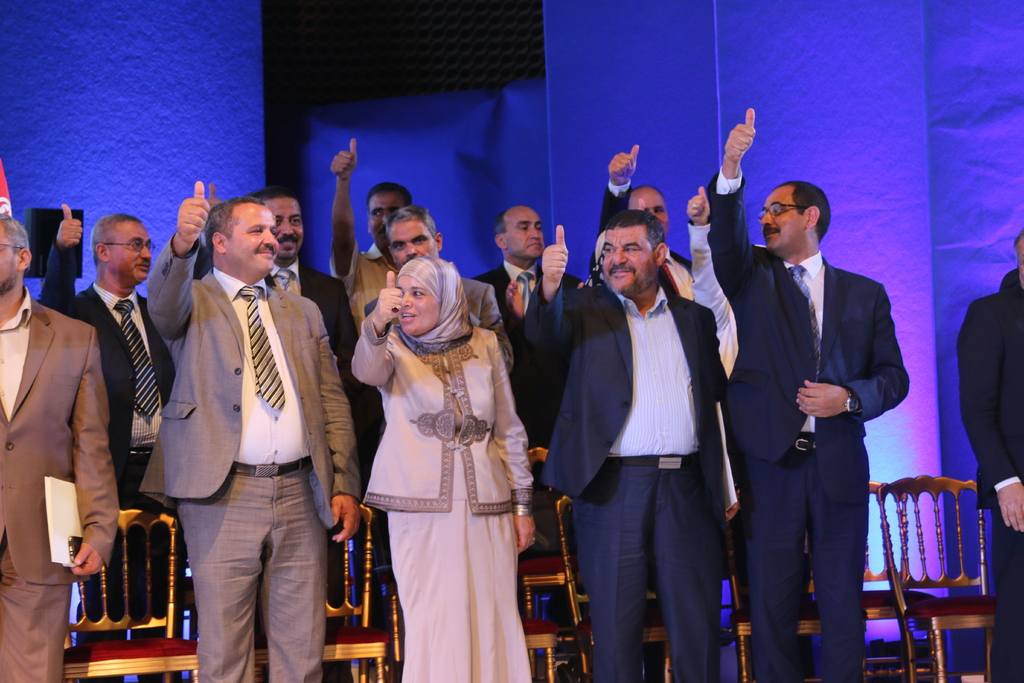Person: (0, 106, 1023, 683)
